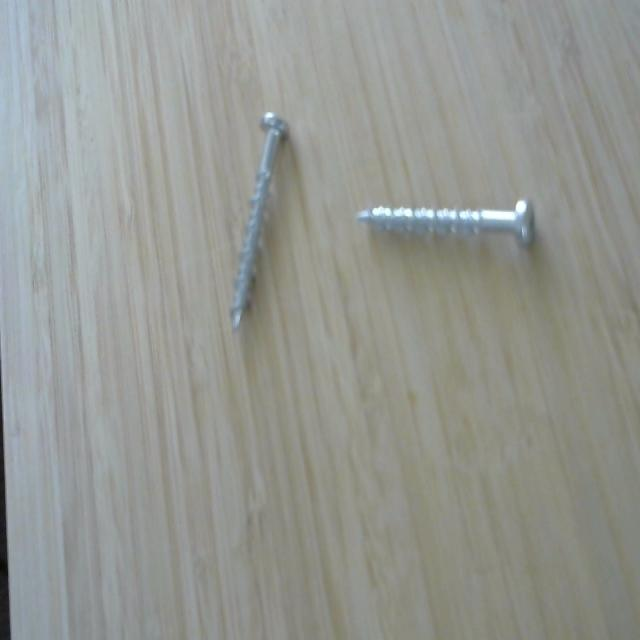Medium screw: (215, 94, 300, 345), (354, 195, 540, 254)
